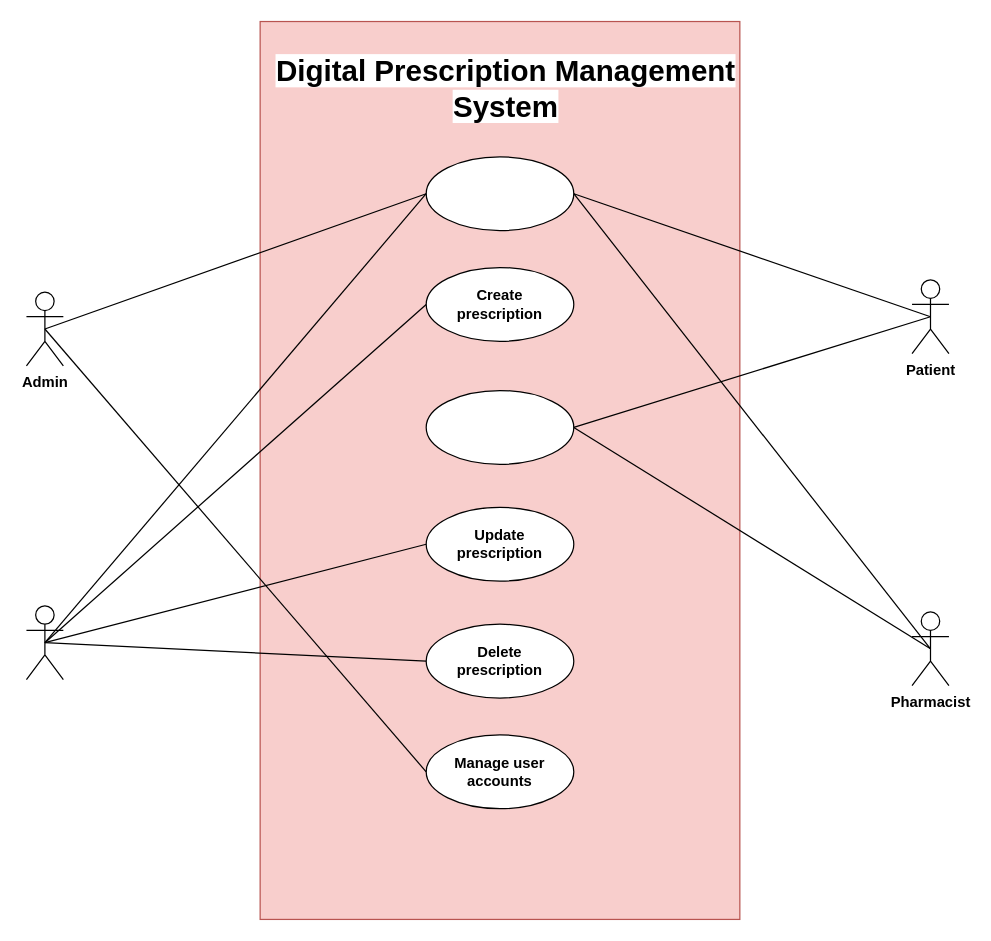
The diagram is 991 pixels wide and 941 high, and some of its shapes have lost their labels. Each missing label, with the centre of its shape:
"Doctor" goes at pixel 44 642.
"Login" goes at pixel 499 193.
"View prescription" goes at pixel 499 426.
